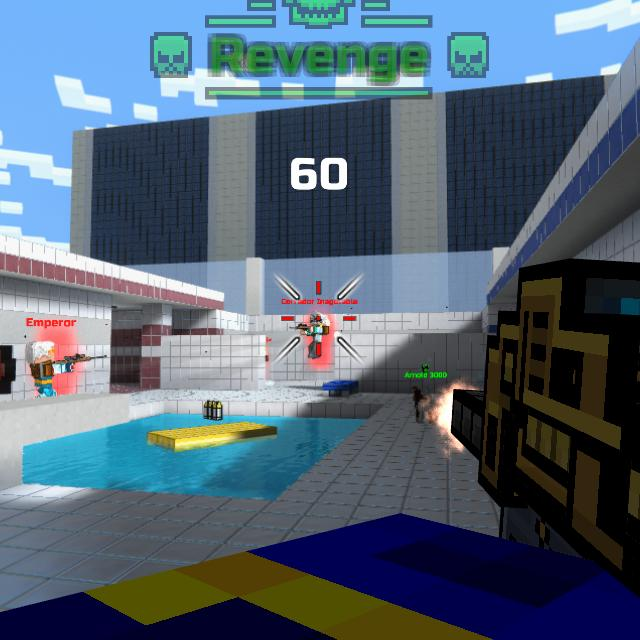Enemy: (28, 340, 70, 396), (300, 313, 330, 361), (266, 342, 271, 364)
